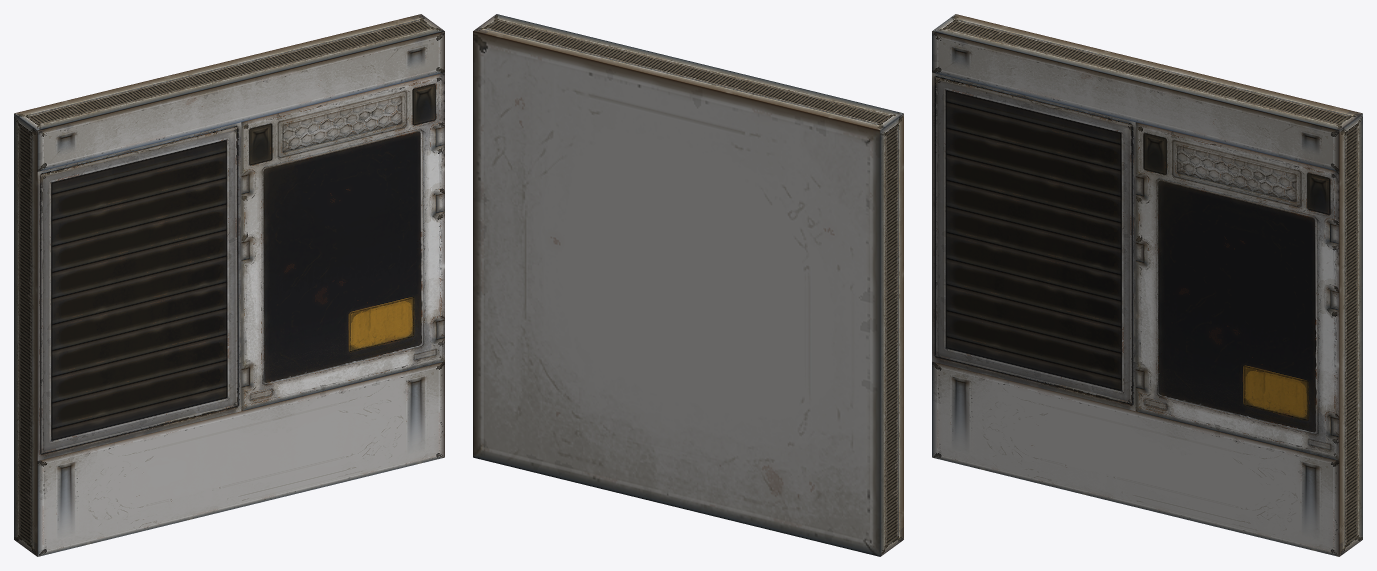
File: scifi_wall1_3.FBX
3 renders of one model, left to right at view 1: azimuth 30°, elevation 25°; view 2: azimuth 150°, elevation 25°; view 3: azimuth 330°, elevation 25°, orthographic.
Parts seen in each view (by area): view 1: Plane004; view 2: Plane004; view 3: Plane004.
Part boxes in pixels (box(x1,y1,x2,y2)): Plane004: box(14, 14, 444, 556); Plane004: box(473, 14, 903, 556); Plane004: box(932, 14, 1362, 556).
Bounding box in the file's own units: 254 × 254 × 25.4.
